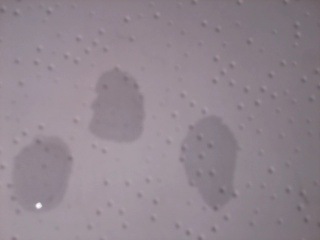Water_detected: (88, 73, 137, 134), (20, 147, 61, 193), (188, 128, 217, 184)
